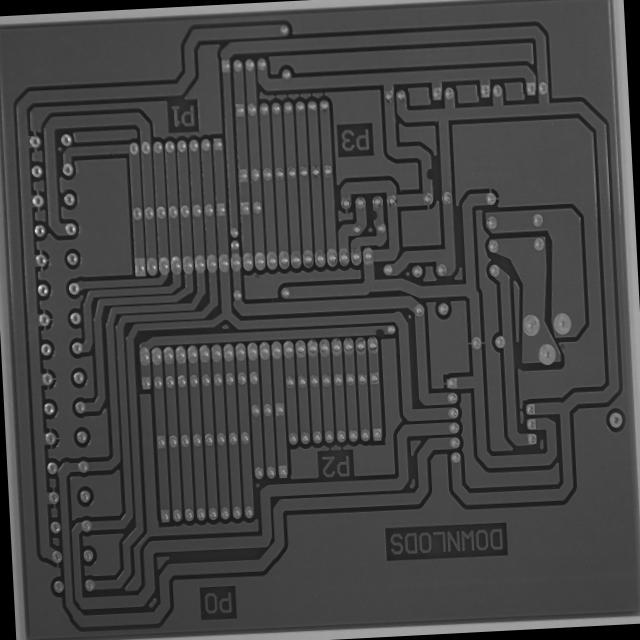mouse_bite: (421, 163, 436, 184), (370, 324, 390, 338), (370, 206, 380, 224)
